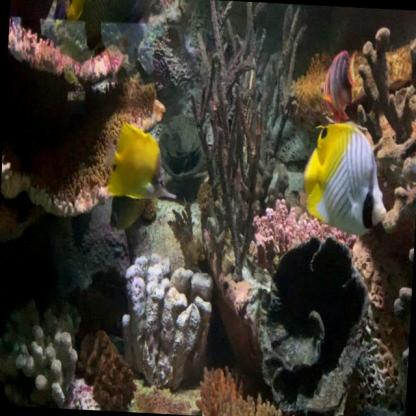fish: (300, 118, 391, 238), (105, 121, 180, 201), (52, 0, 158, 52), (318, 46, 360, 124), (109, 180, 146, 231), (46, 0, 85, 27)
